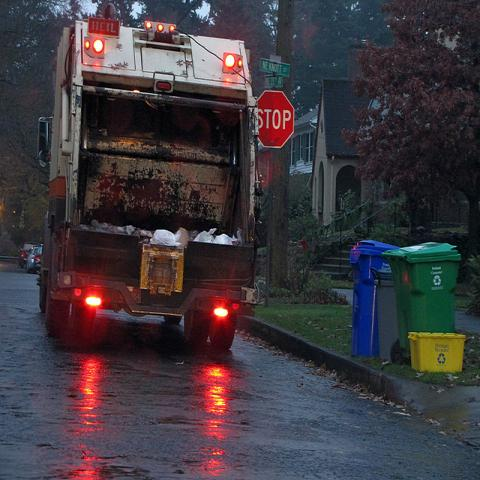car: (18, 240, 40, 268), (26, 246, 42, 274)
truck: (38, 15, 258, 347)
